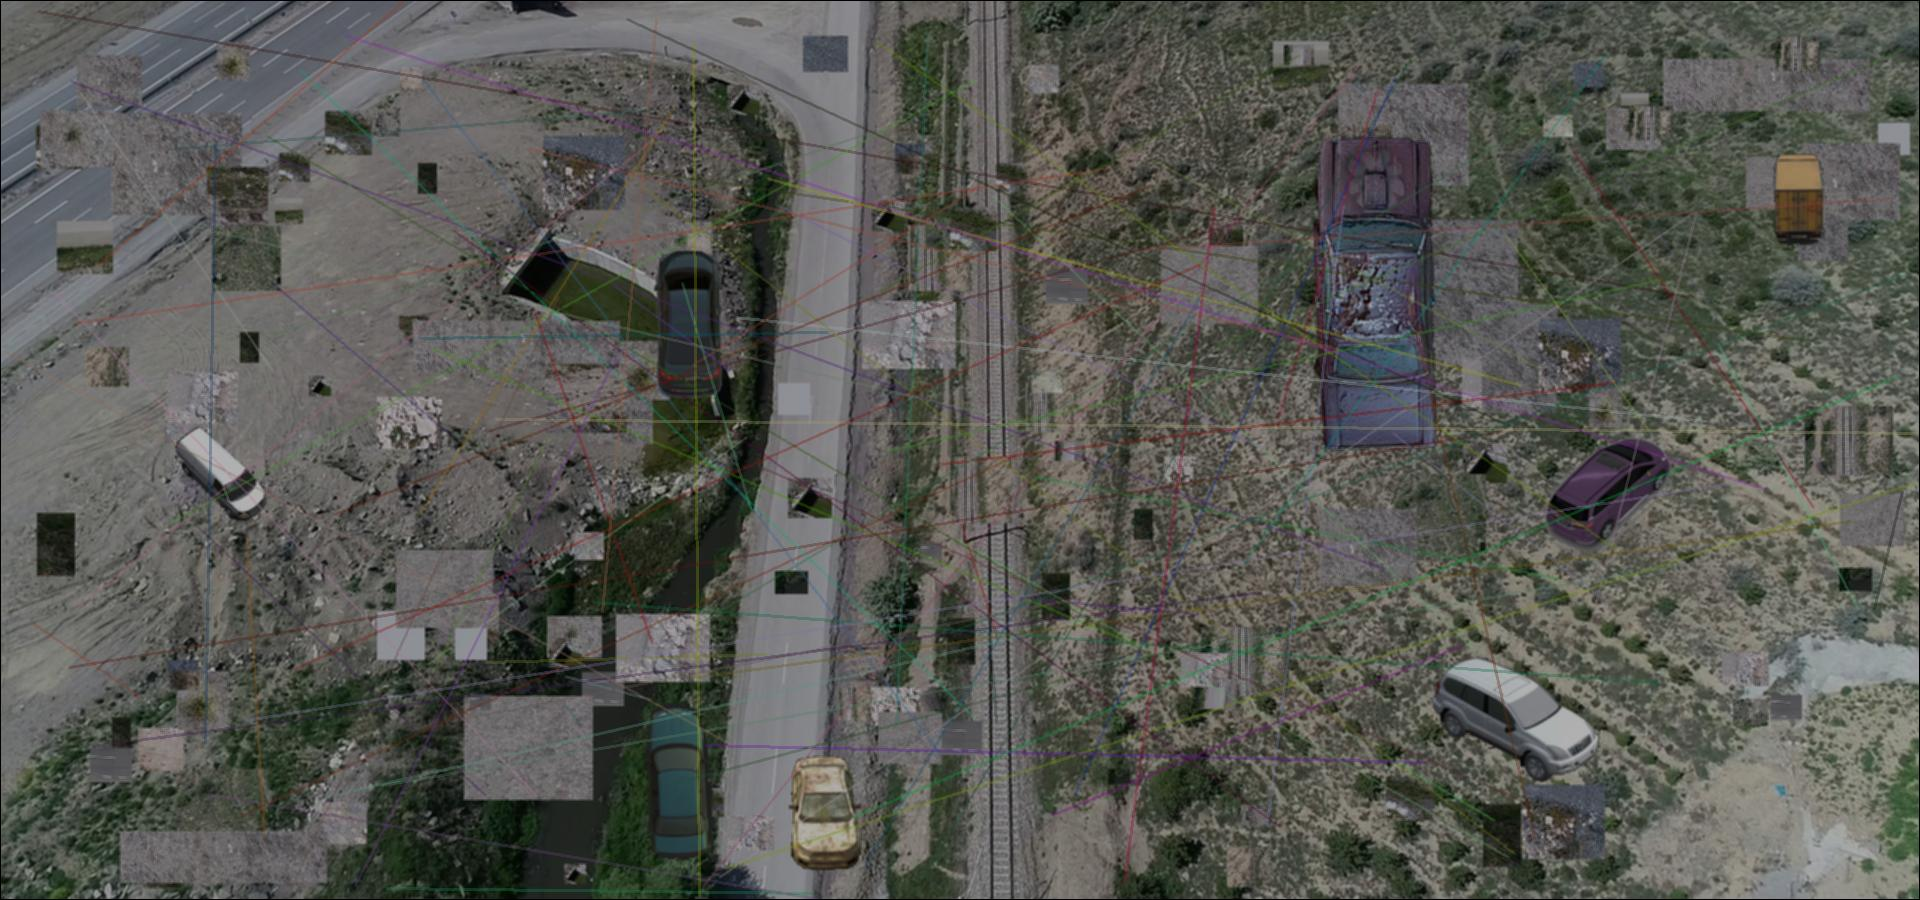arac: (1300, 132, 1449, 458), (1429, 651, 1600, 782), (1545, 427, 1674, 560), (642, 702, 718, 862), (649, 251, 729, 400), (789, 754, 863, 876), (175, 424, 267, 520), (1773, 151, 1827, 250)
